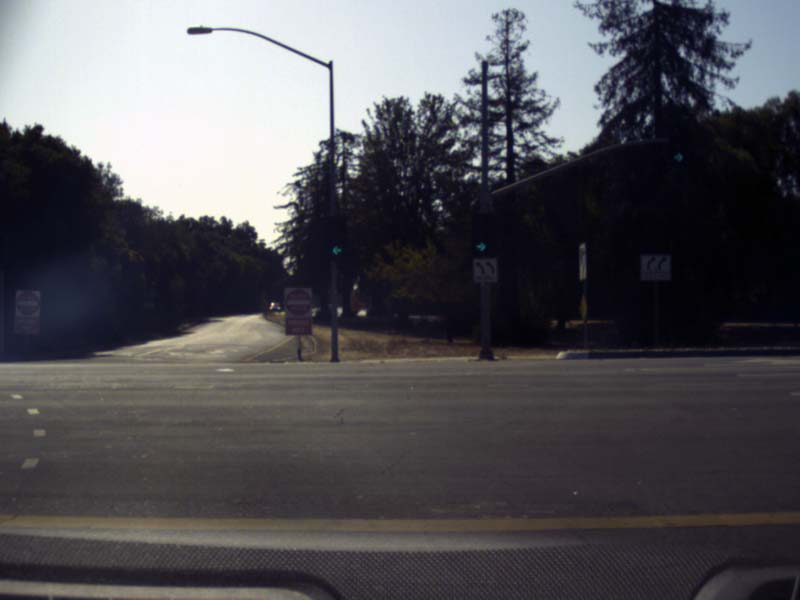Green: (471, 213, 492, 256), (327, 216, 346, 258), (669, 133, 690, 169)
